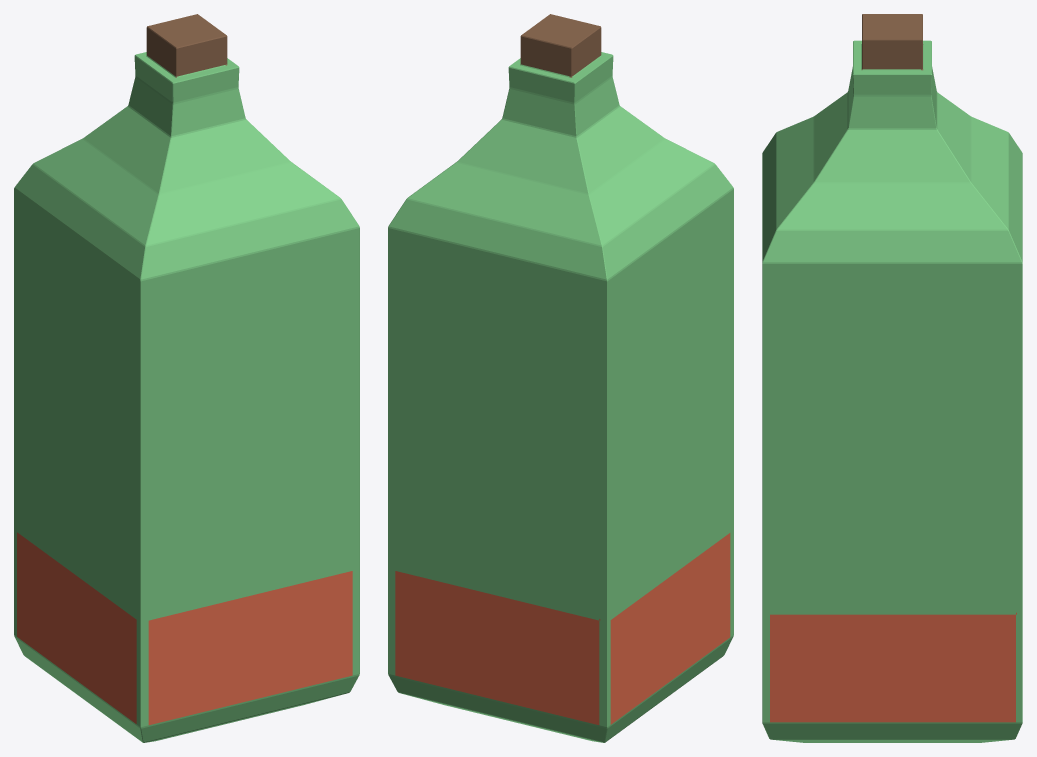
The model's file is bottle.fbx.
The picture shows the model from 3 angles, left to right: view 1: azimuth 30°, elevation 25°; view 2: azimuth 150°, elevation 25°; view 3: azimuth 270°, elevation 25°; orthographic projection. The views are drawn at different scales.
Visible parts, largest first — view 1: Cube; view 2: Cube; view 3: Cube.
Boxes of the visible parts, left/top/right/bottom form: Cube: left=14, top=14, right=359, bottom=742; Cube: left=388, top=14, right=733, bottom=742; Cube: left=762, top=14, right=1022, bottom=742.
Bounding box in the file's own units: 89.41 × 257 × 89.41.
